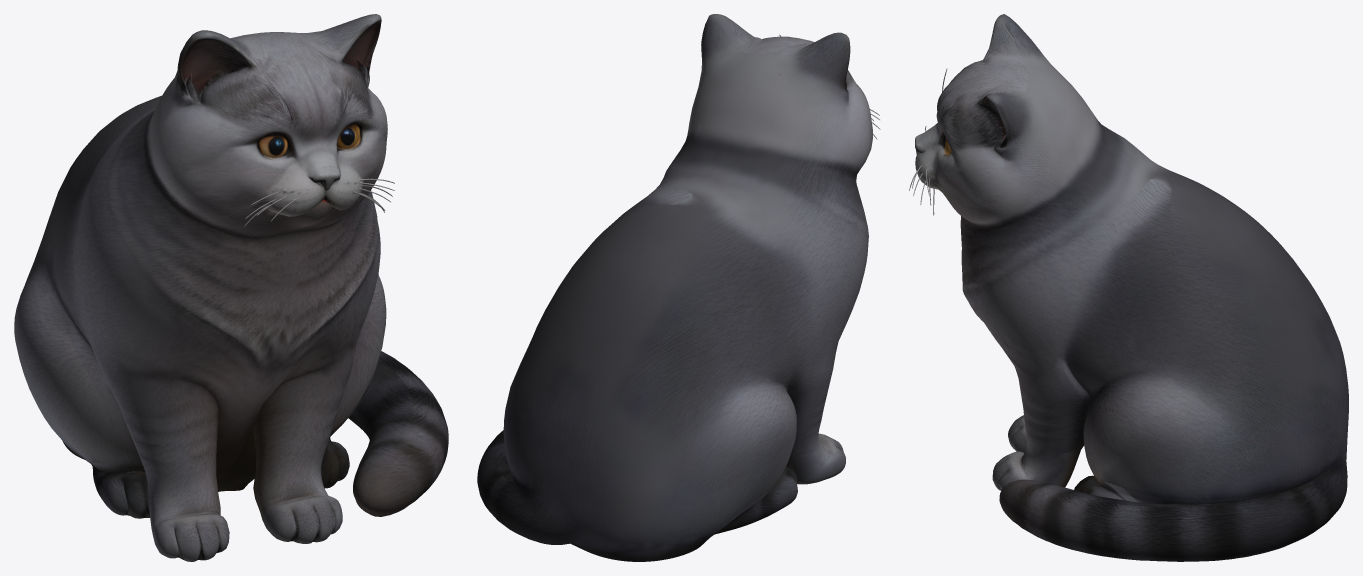
The model's file is sitting_blue_cat 03.glb.
3 renders of one model, left to right at view 1: azimuth 30°, elevation 25°; view 2: azimuth 150°, elevation 25°; view 3: azimuth 270°, elevation 25°, orthographic. The views are drawn at different scales.
Visible parts, largest first — view 1: cat; view 2: cat; view 3: cat.
Boxes of the visible parts, <box> form: cat: <box>14,14,448,561</box>; cat: <box>477,14,880,561</box>; cat: <box>909,14,1348,561</box>.
Bounding box in the file's own units: 0.5306 × 0.7305 × 0.6731.
1 material, 1 textured.
